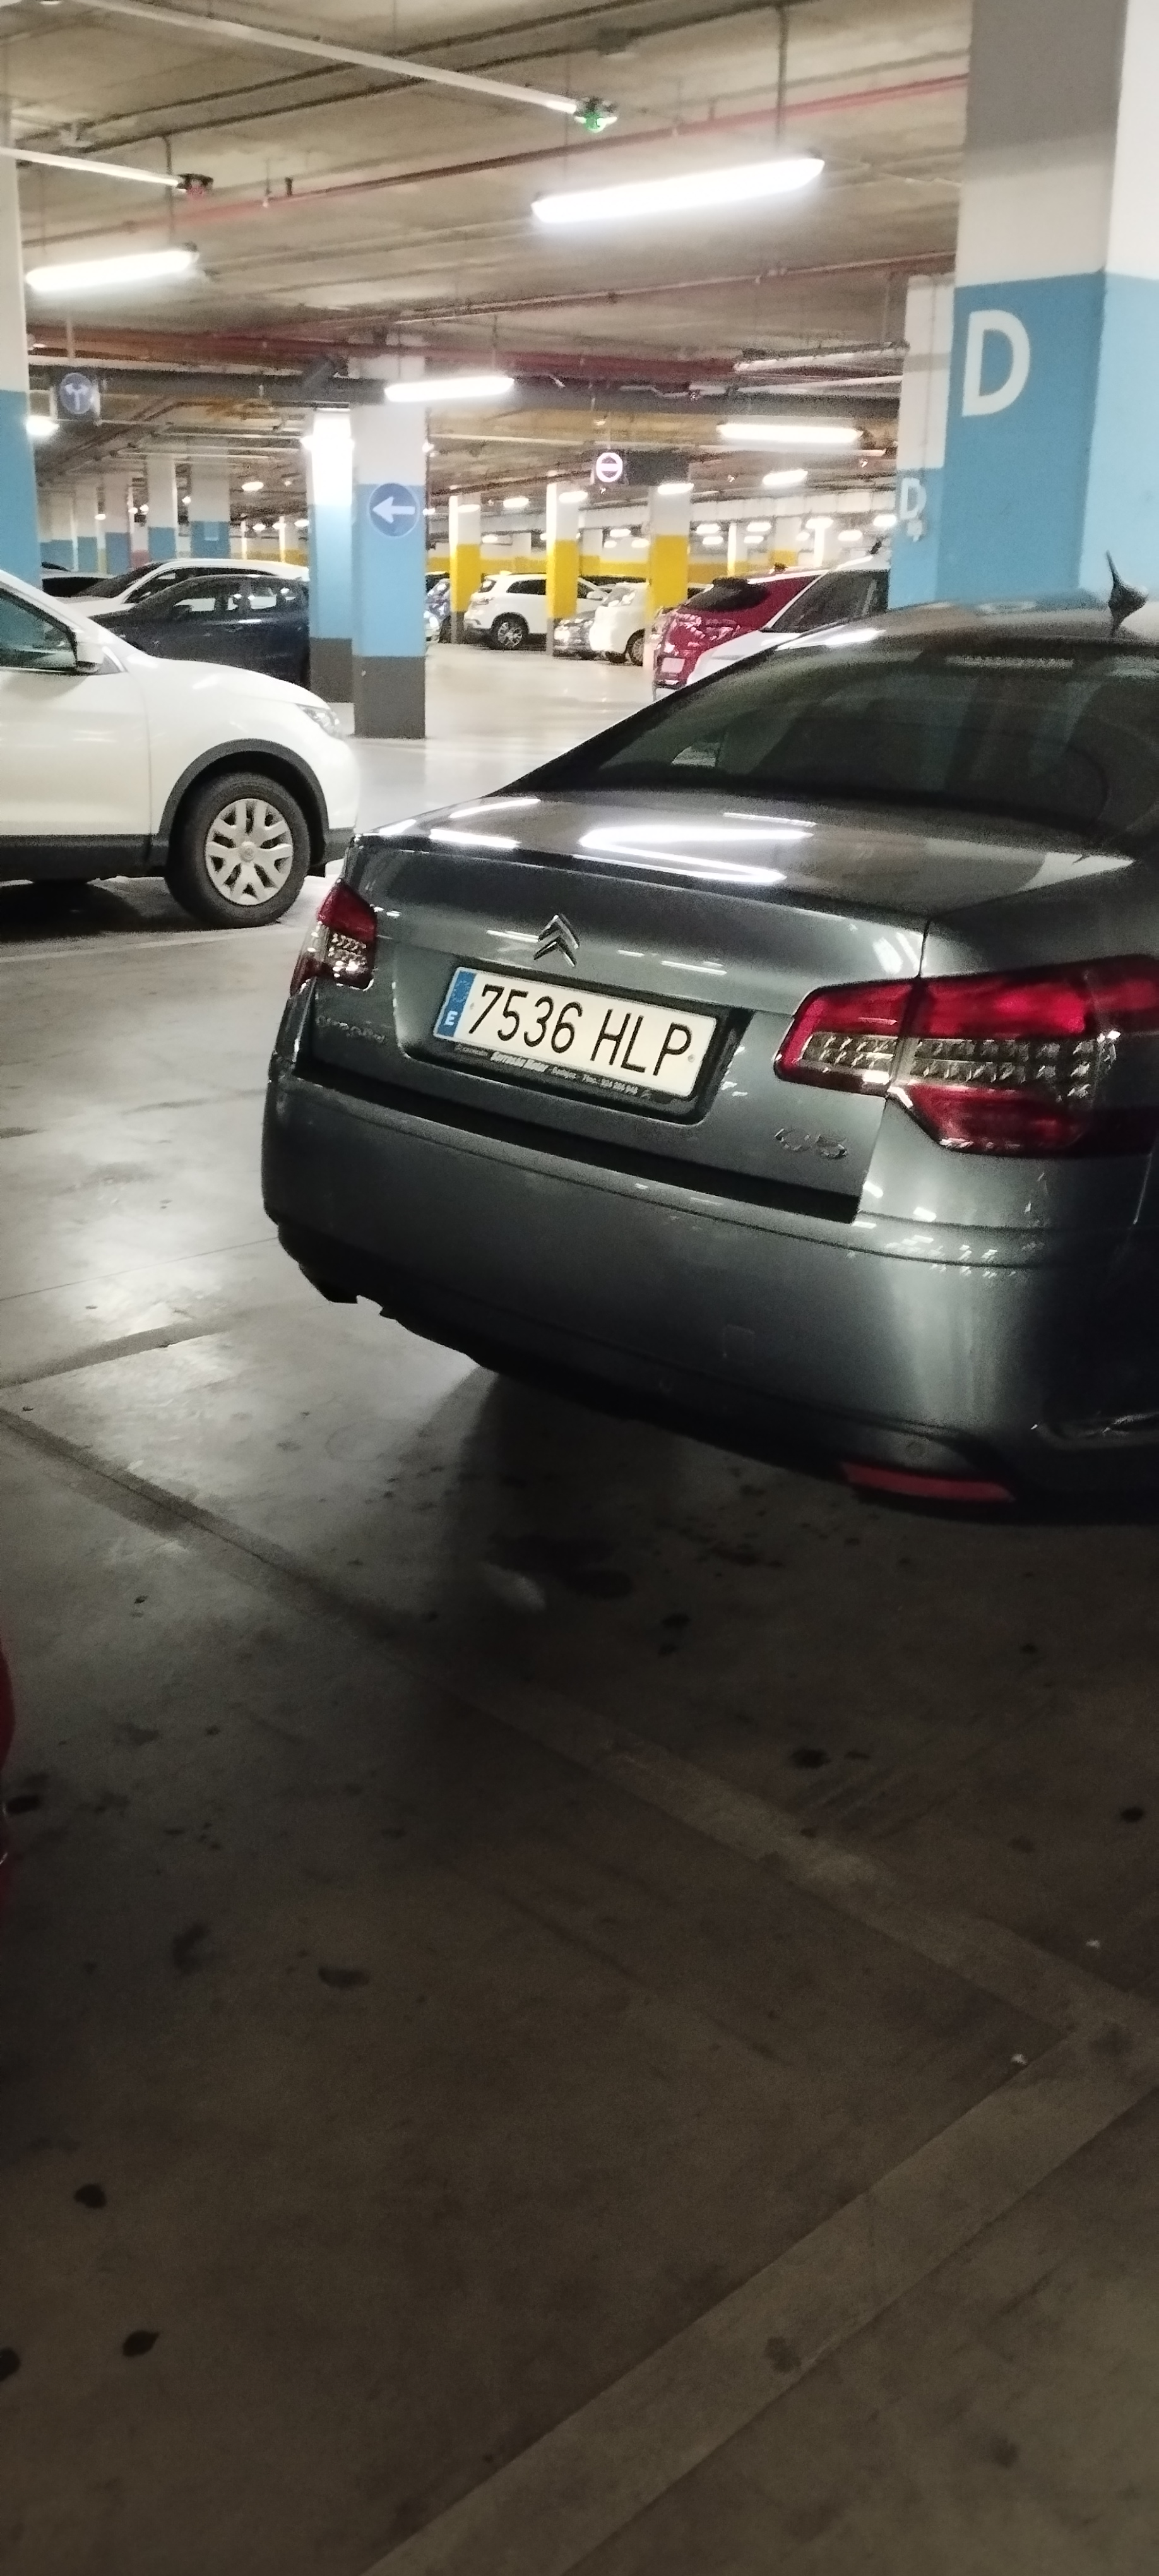Car: (274, 555, 1158, 1526)
Plate: (451, 953, 718, 1045)
